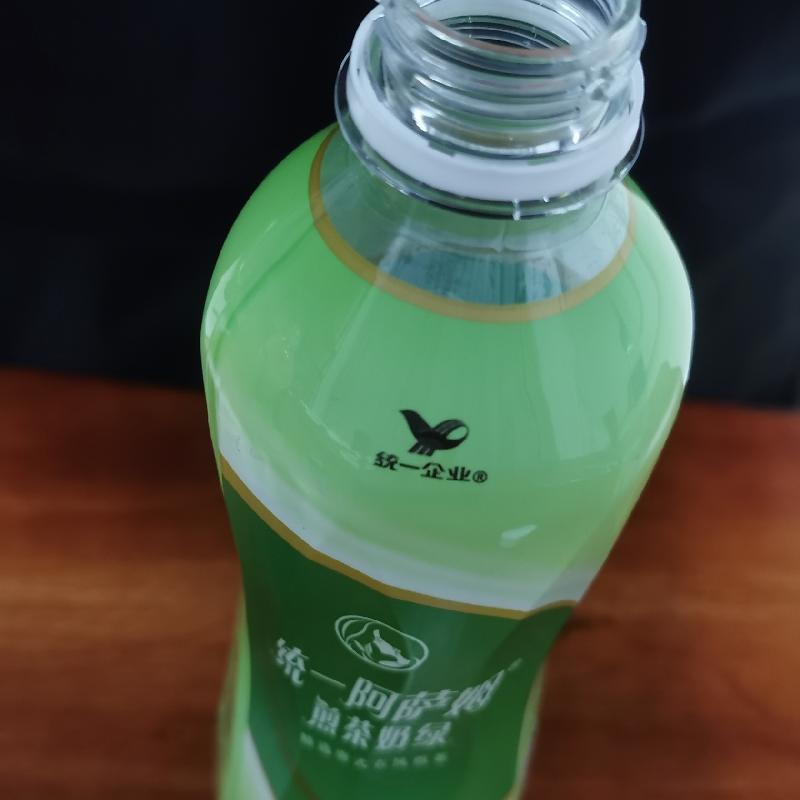bottles: (193, 2, 699, 799)
